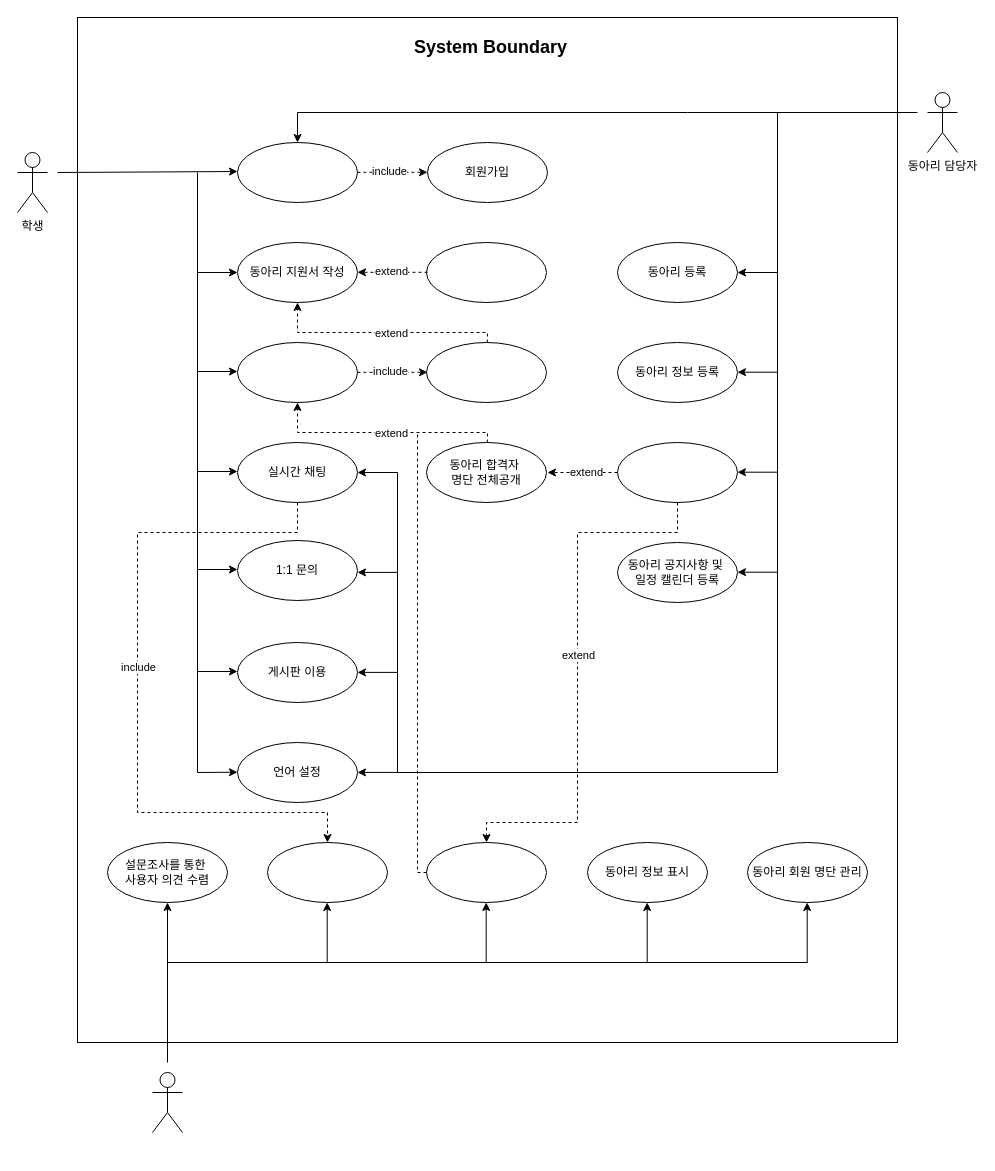
Some shapes in this 995 by 1171 pixel diagram are drawn without their labels. Here are the shapes that lost their labels. From the top down, the centre of each, then its label:
At (297,172): "로그인".
At (486,272): "동아리 지원서 임시저장 또는 수정".
At (297,372): "동아리 합격 여부 확인".
At (486,372): "동아리 지원".
At (677,472): "동아리 합격자 명단 기입".
At (327,872): "담당자 연결".
At (486,872): "동아리 지원 합격여부 알림".
At (167,1102): "서버".
